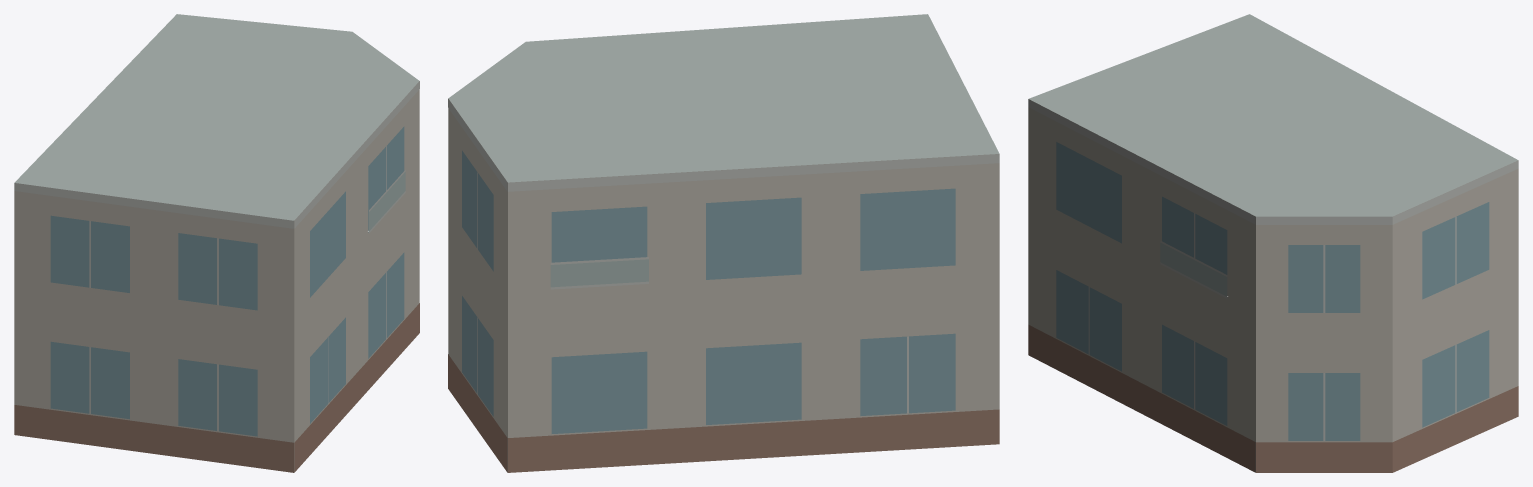
Rendered from survey-upis-32904049.glb.
The picture shows the model from 3 angles, left to right: view 1: azimuth 30°, elevation 25°; view 2: azimuth 150°, elevation 25°; view 3: azimuth 270°, elevation 25°; orthographic projection. The views are drawn at different scales.
Visible parts, largest first — view 1: survey-upis-32904049.tmp; view 2: survey-upis-32904049.tmp; view 3: survey-upis-32904049.tmp.
Boxes of the visible parts, <box> form: survey-upis-32904049.tmp: <box>14,14,419,472</box>; survey-upis-32904049.tmp: <box>448,14,999,472</box>; survey-upis-32904049.tmp: <box>1028,14,1518,472</box>.
Bounding box in the file's own units: 12.9 × 7.6 × 13.19.
